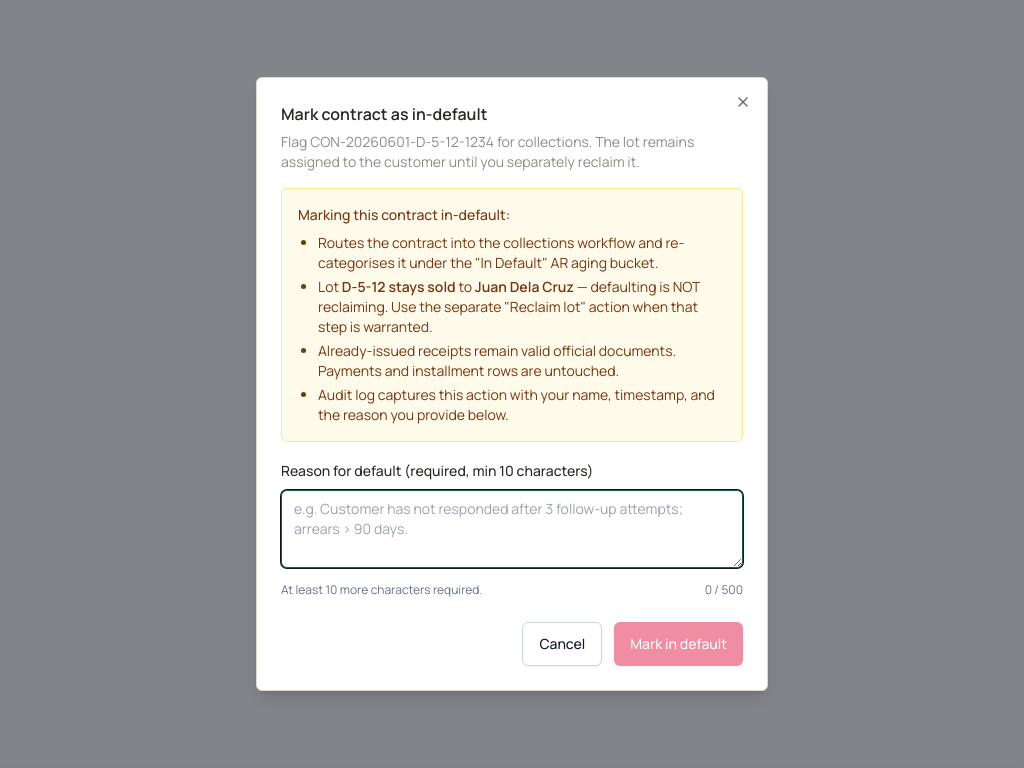
MarkInDefaultDialog › surfaces server errors inline as role=alert without locking the submit button
Type "Severely overdue — escalating." into the text box with test id "mark-in-default-reason" at (512, 529), box [281,490,743,568]
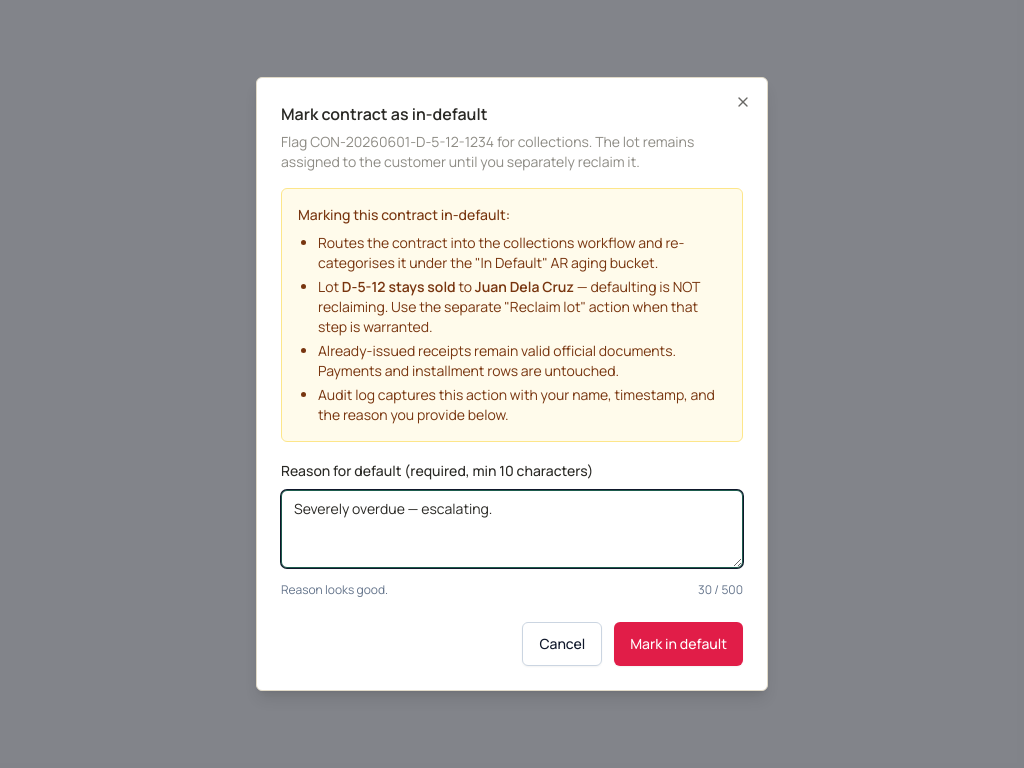
Click the button with test id "mark-in-default-confirm" at (679, 644), box [614,622,743,666]
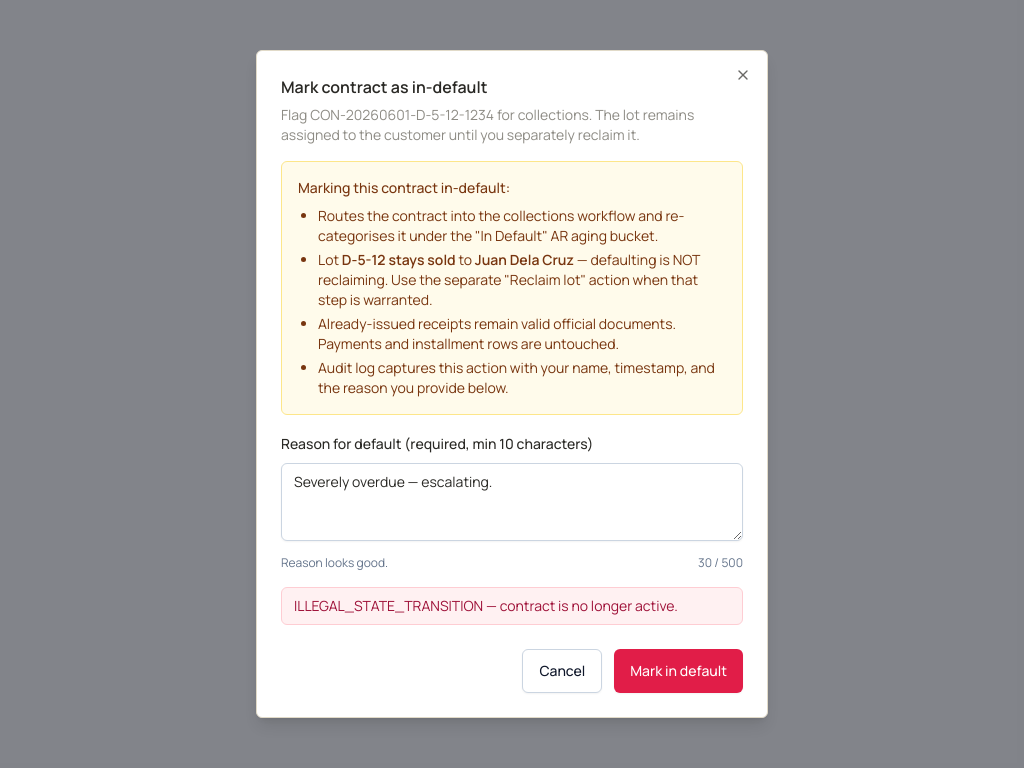
Now the button with test id "mark-in-default-confirm" is enabled, box [614,649,743,693]
Now the message reads "ILLEGAL_STATE_TRANSITION — contract is no longer active.", box [294,596,678,615]
